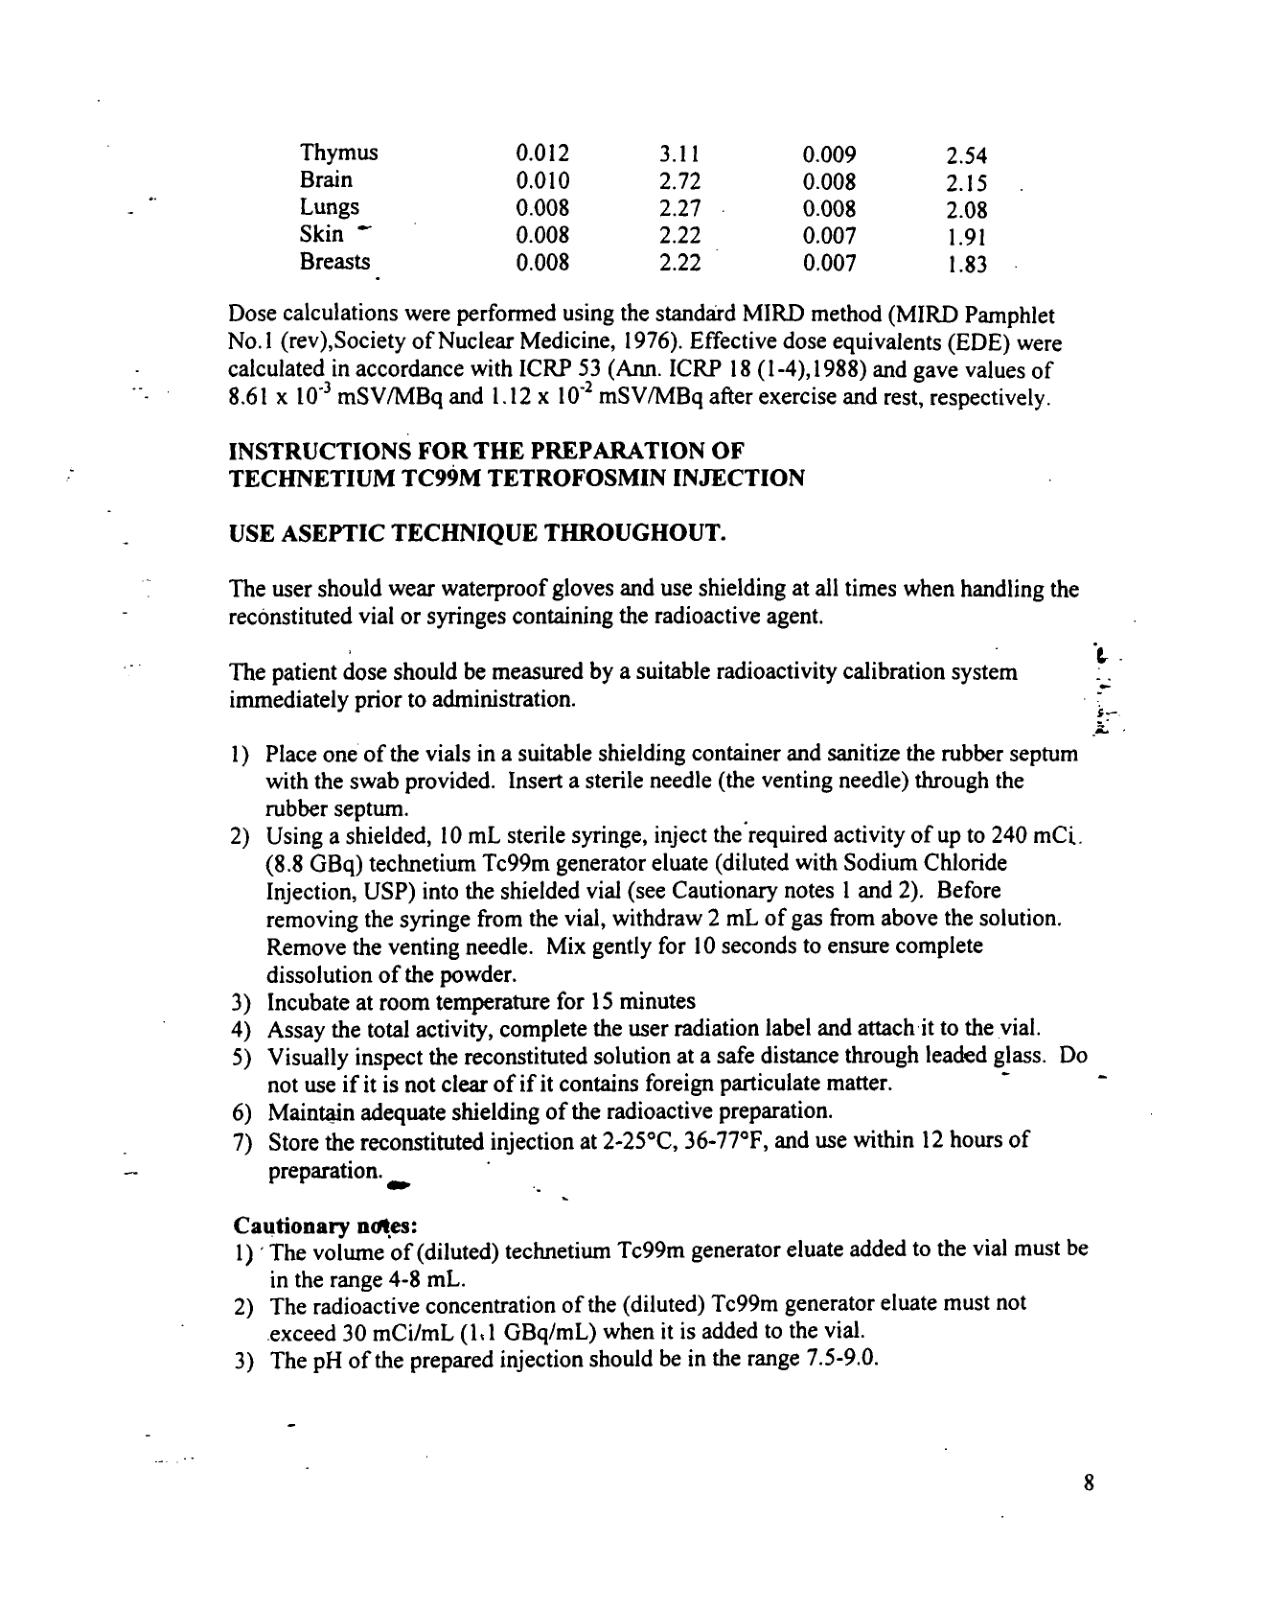nolines: (297, 140, 992, 278)
